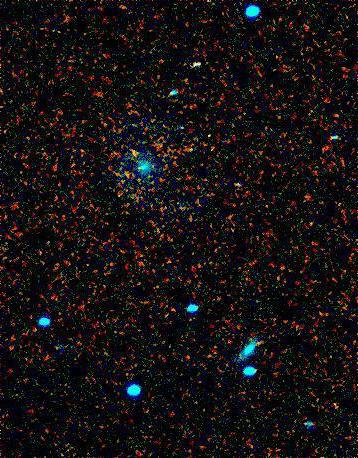star: (124, 161, 154, 191)
